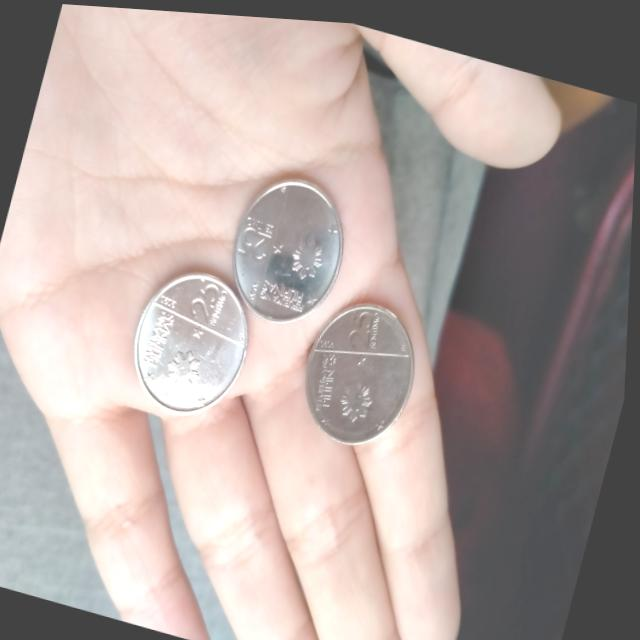25Cent_New_Front: (335, 292, 394, 359), (228, 203, 280, 275), (180, 271, 239, 331)
